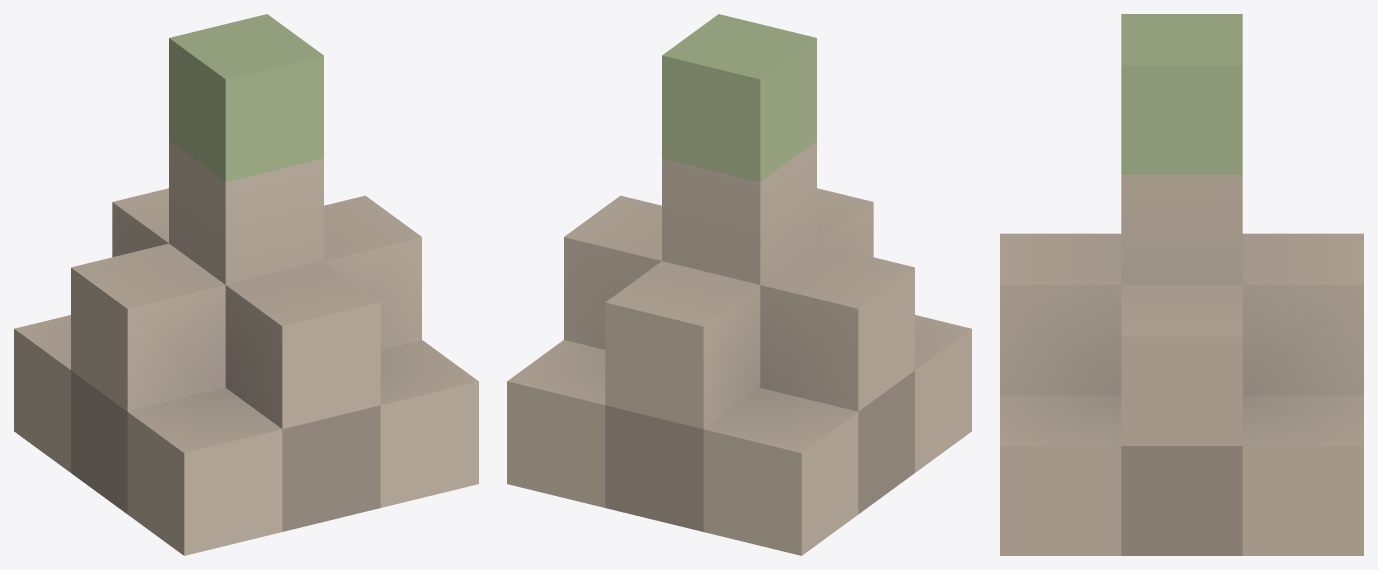
The model's file is decor_rock_a.glb.
The picture shows the model from 3 angles, left to right: view 1: azimuth 30°, elevation 25°; view 2: azimuth 150°, elevation 25°; view 3: azimuth 270°, elevation 25°; orthographic projection. The views are drawn at different scales.
Parts seen in each view (by area): view 1: decor_rock_a; view 2: decor_rock_a; view 3: decor_rock_a.
Boxes of the visible parts, <box> form: decor_rock_a: <box>14,14,478,555</box>; decor_rock_a: <box>507,14,971,555</box>; decor_rock_a: <box>1000,14,1363,555</box>.
Bounding box in the file's own units: 0.375 × 0.5 × 0.375.
